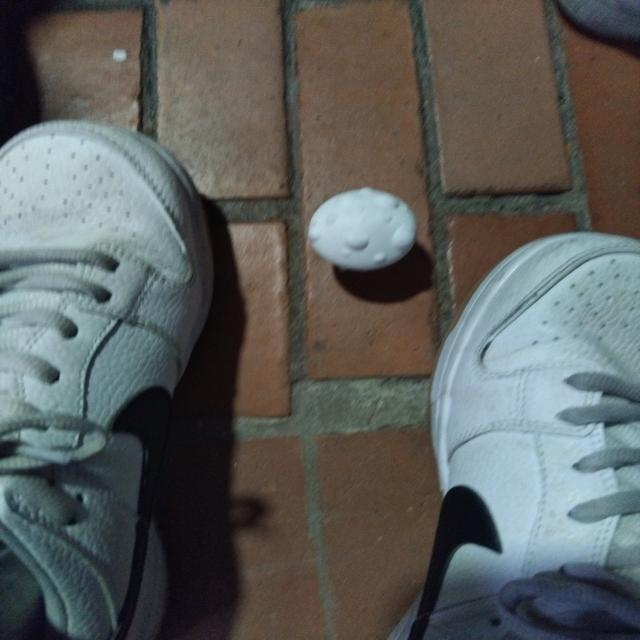Hongo: (287, 179, 439, 278)
